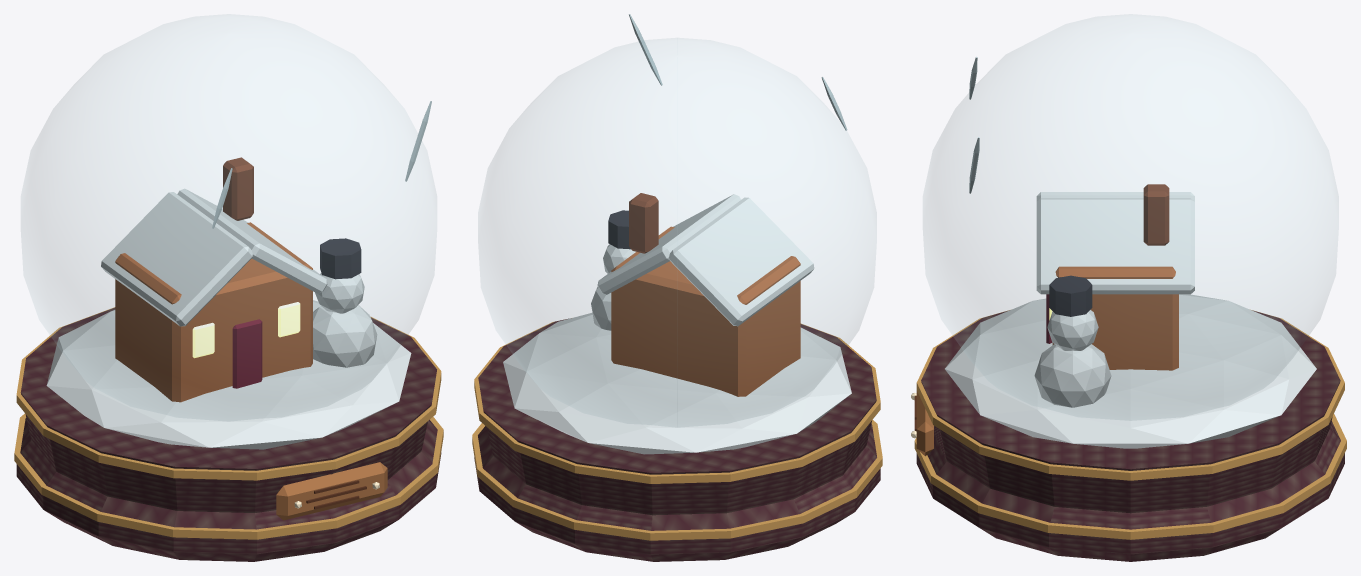
Rendered from snow_globe_village.glb.
3 renders of one model, left to right at view 1: azimuth 30°, elevation 25°; view 2: azimuth 150°, elevation 25°; view 3: azimuth 270°, elevation 25°, orthographic. The views are drawn at different scales.
Parts seen in each view (by area): view 1: snow_globe_village; view 2: snow_globe_village; view 3: snow_globe_village.
Boxes of the visible parts, x1,y1,x2,y2 form: snow_globe_village: (14,14,443,561); snow_globe_village: (472,14,882,561); snow_globe_village: (911,14,1346,561).
Size of the model in its own units: 0.202 by 0.231 by 0.2037.
Materials: 13 (1 with a texture image).
